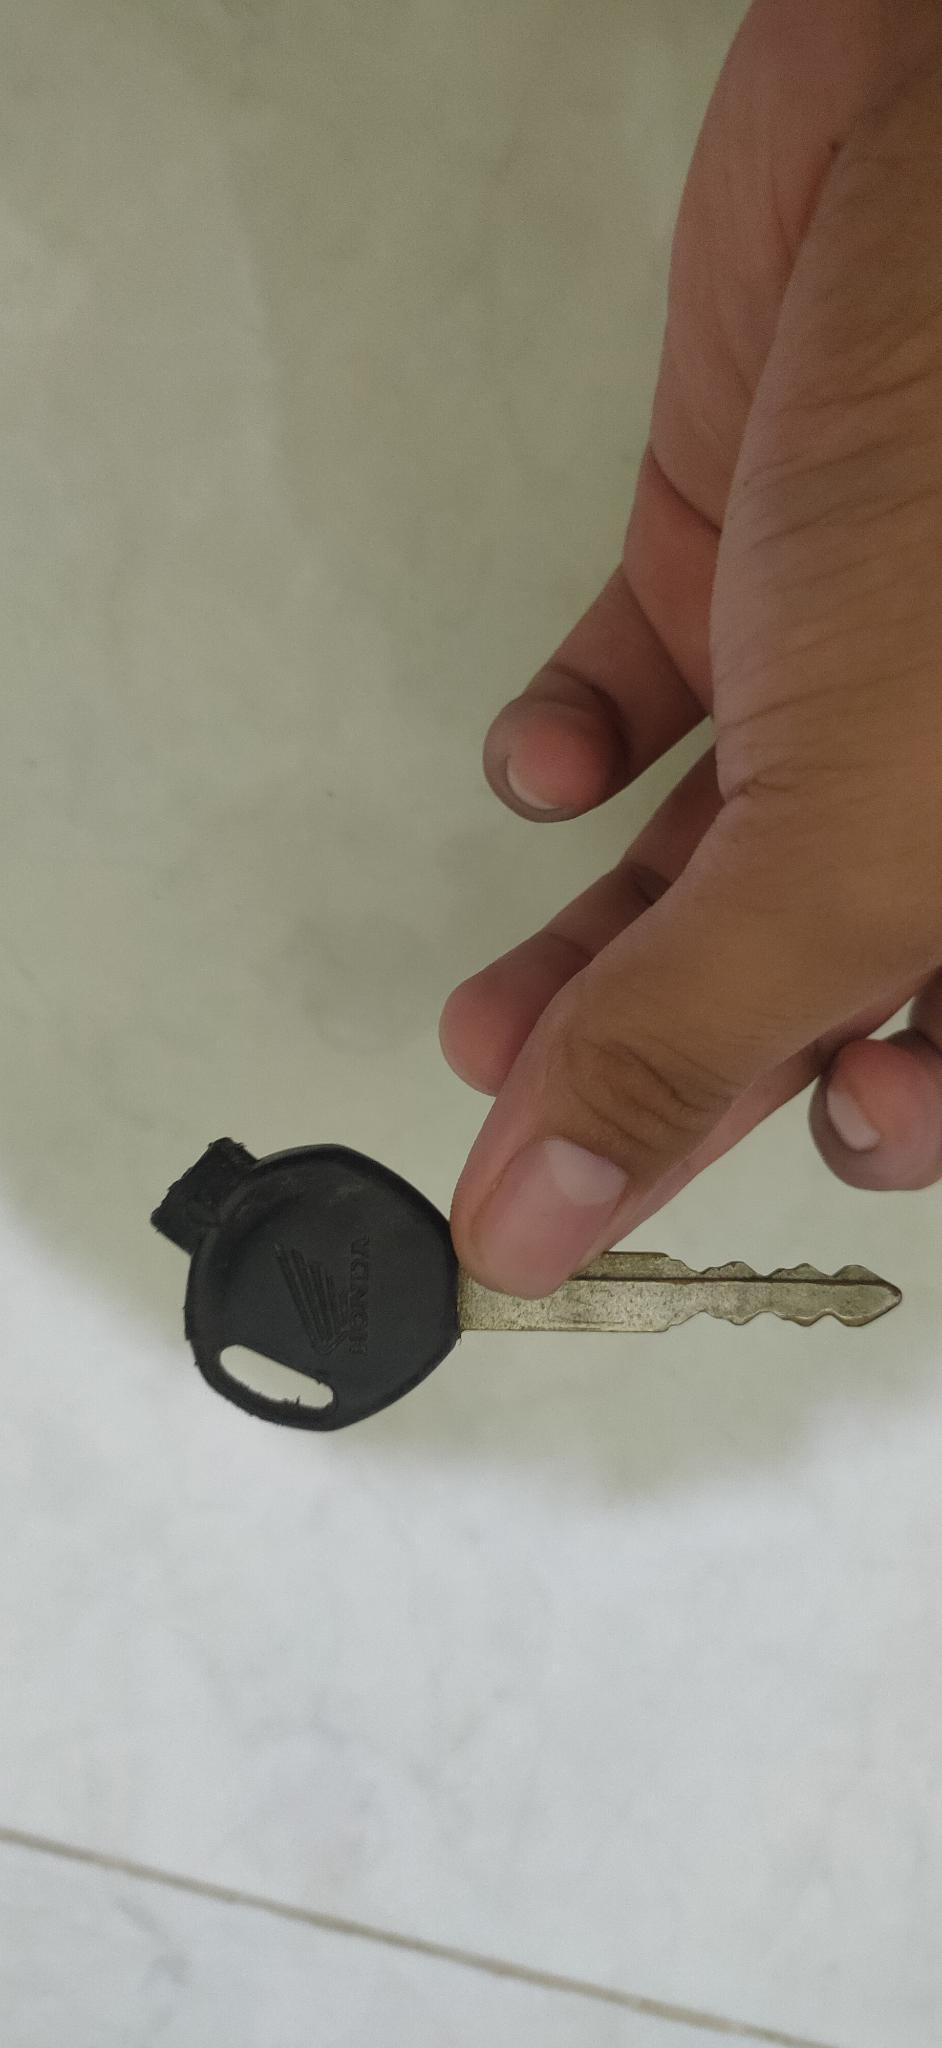keys: (91, 1122, 915, 1479)
